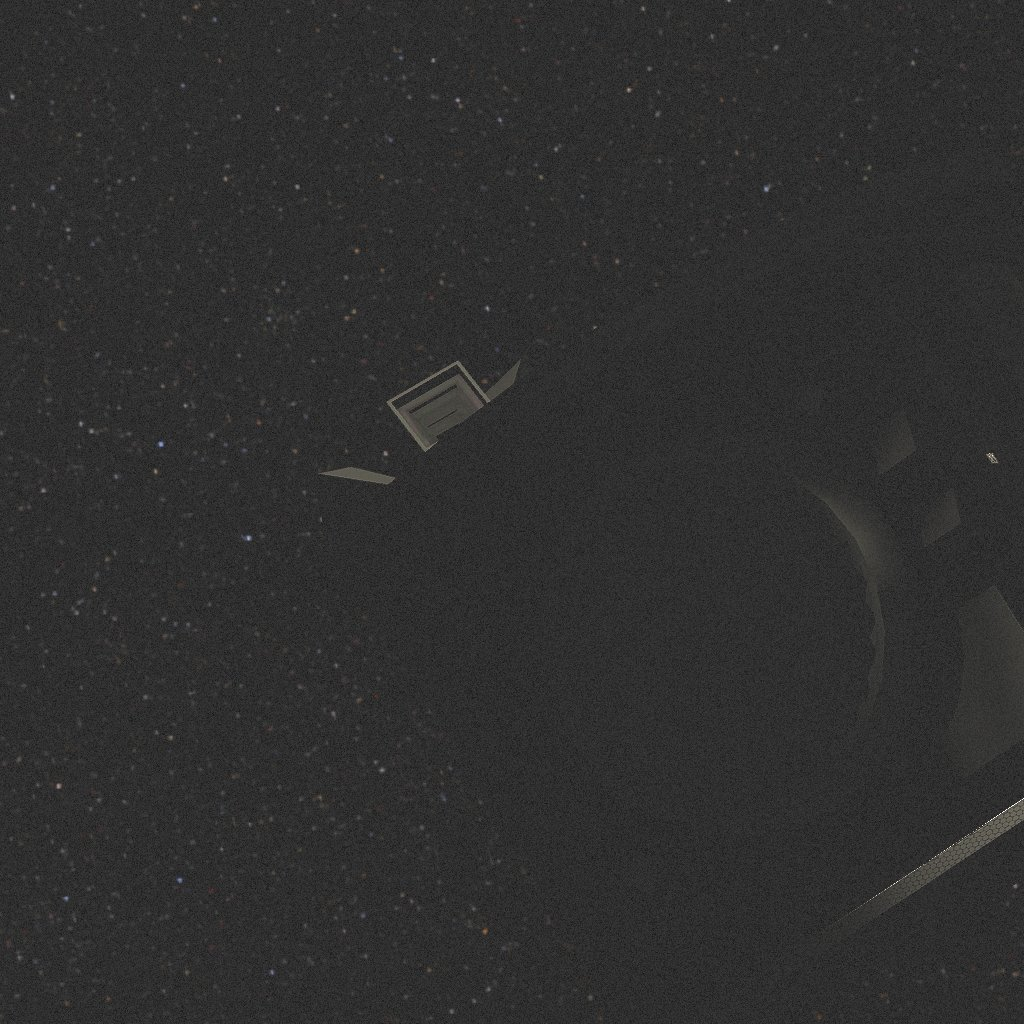proba_3_ocs: (318, 148, 1024, 1024)
